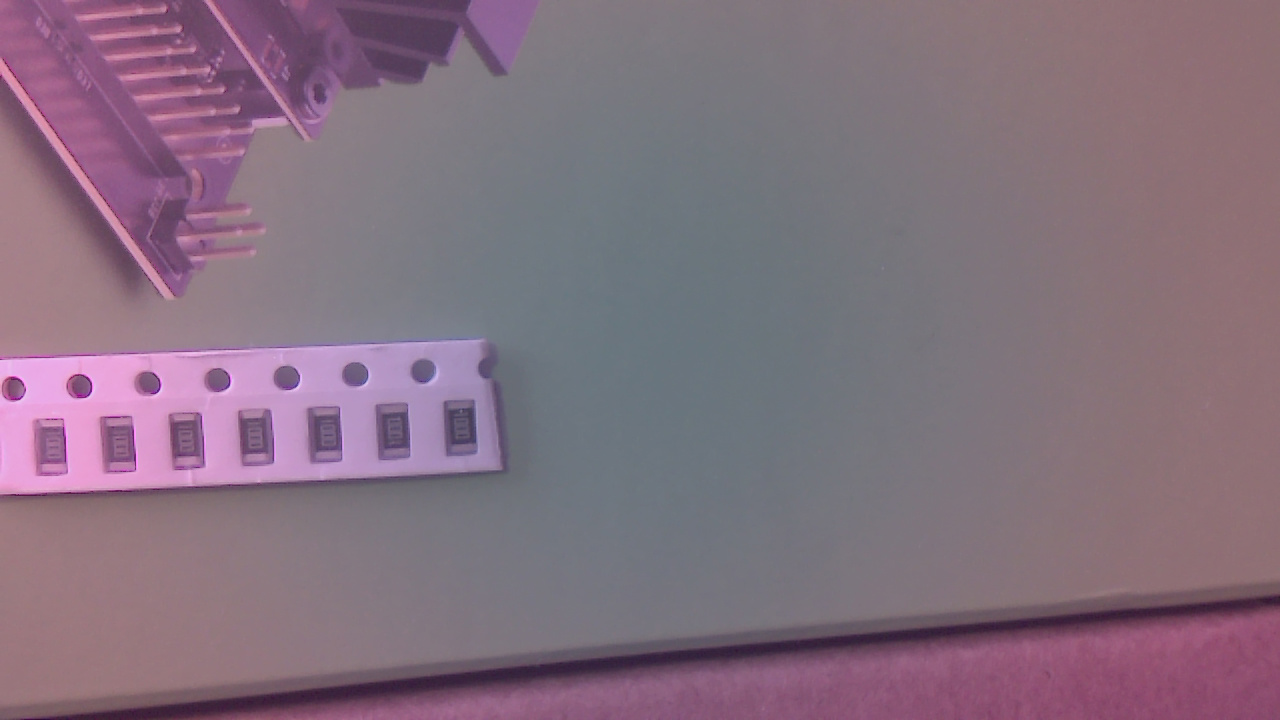Resistor: (103, 420, 141, 479), (380, 407, 417, 467), (36, 422, 73, 482), (449, 403, 484, 463), (312, 410, 346, 471), (173, 415, 207, 476), (242, 414, 277, 473)
